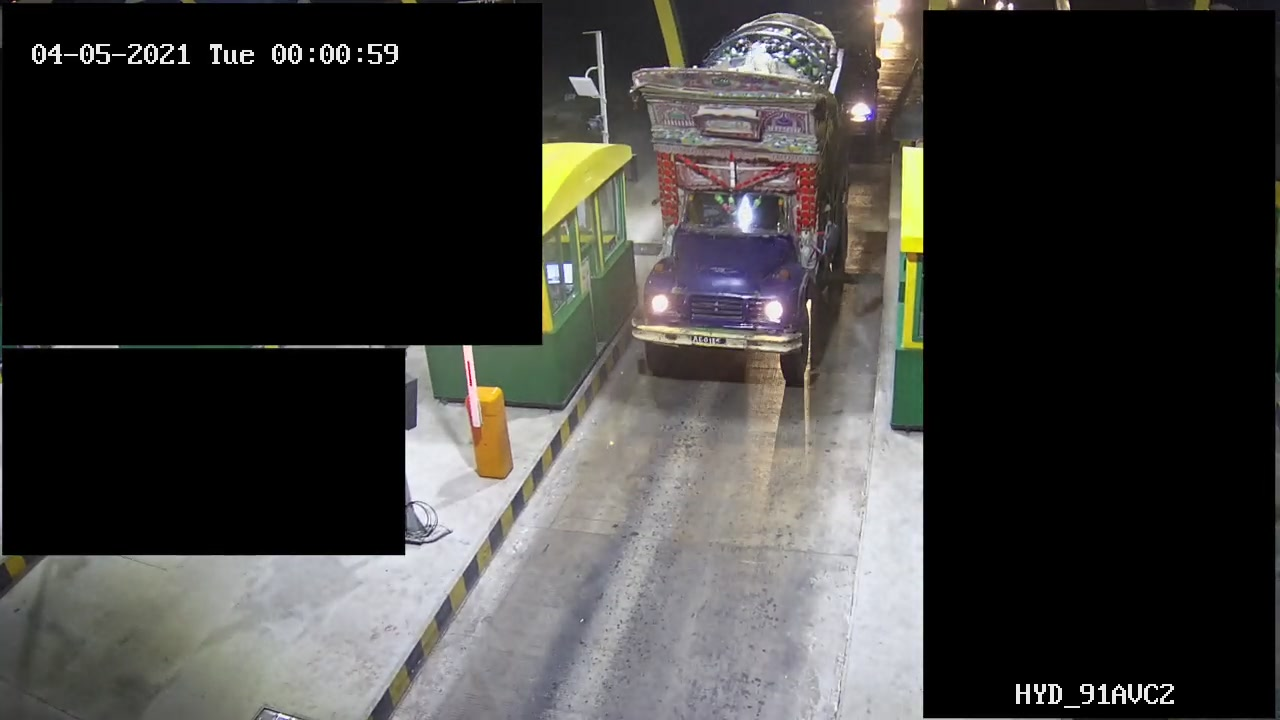F5: (621, 17, 846, 392)
